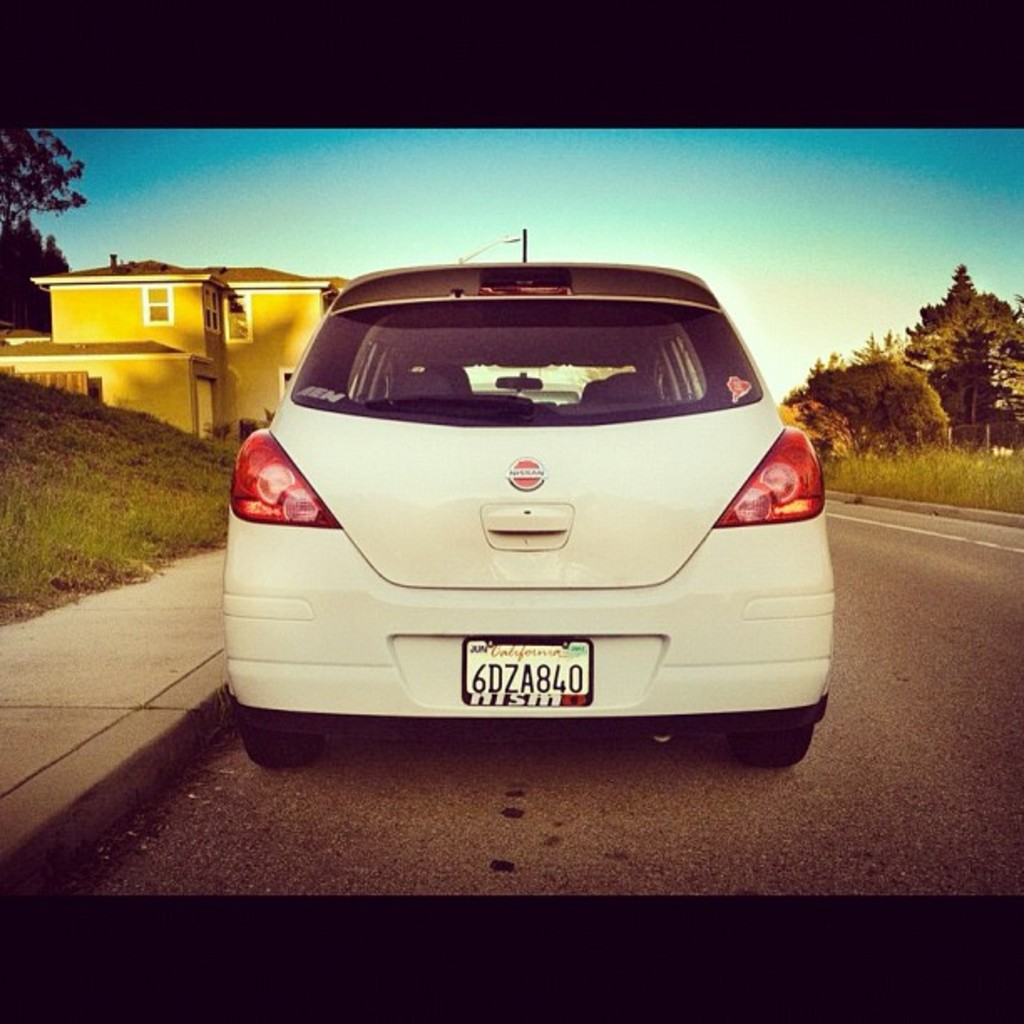Tree: (782, 263, 1024, 474), (0, 129, 85, 335)
